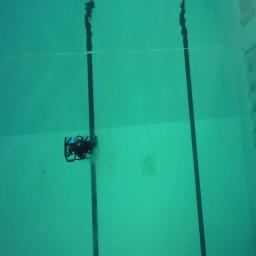front: (65, 134, 99, 163)
